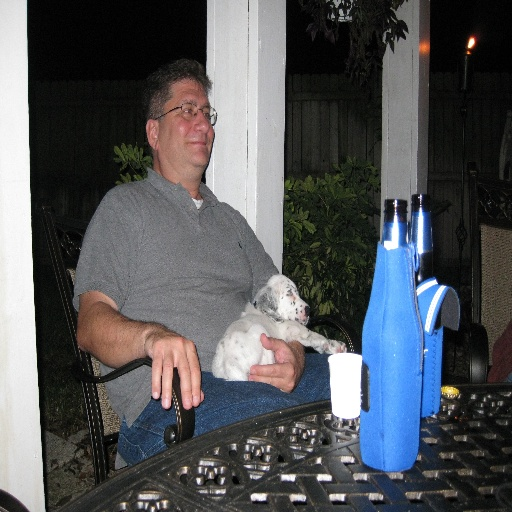hand: (126, 316, 208, 416), (245, 332, 306, 397)
